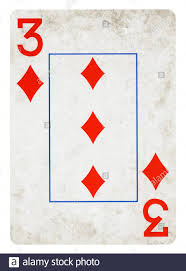three of diamonds: (10, 11, 176, 244)
